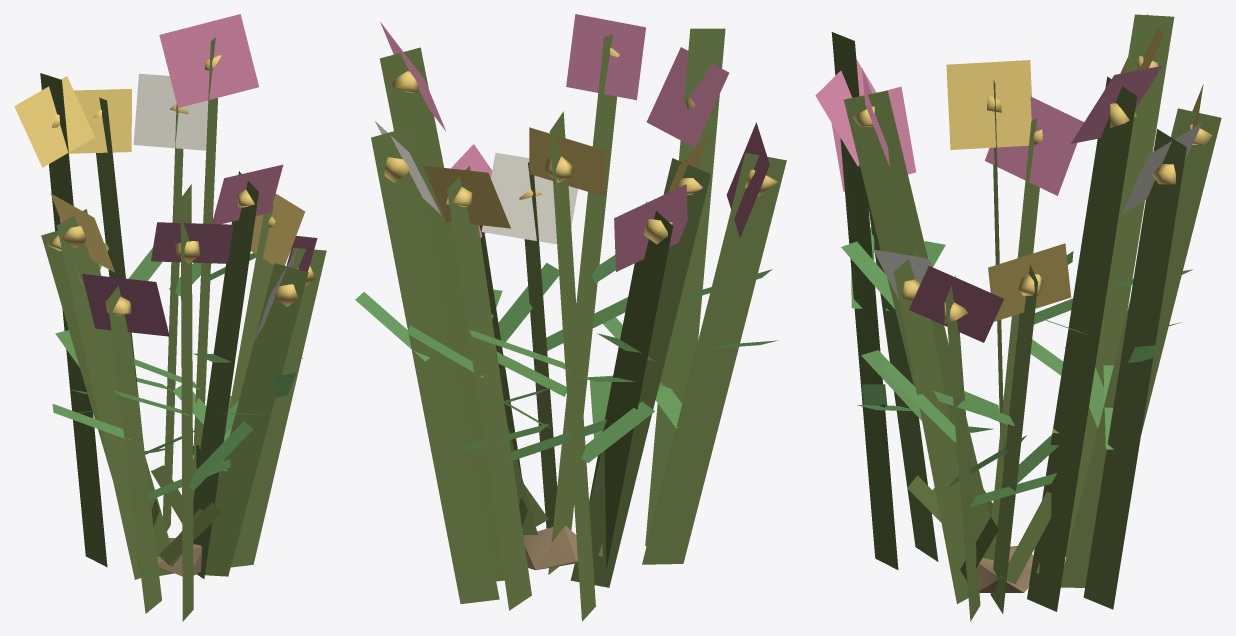
File: wildflowers_far.b41d3d96.glb
3 renders of one model, left to right at view 1: azimuth 30°, elevation 25°; view 2: azimuth 150°, elevation 25°; view 3: azimuth 270°, elevation 25°, orthographic. The views are drawn at different scales.
Parts seen in each view (by area): view 1: wildflowers; view 2: wildflowers; view 3: wildflowers.
Part boxes in pixels (x1,y1,x2,y2): wildflowers: (14,14,326,621); wildflowers: (355,14,786,621); wildflowers: (815,14,1221,621).
Size of the model in its own units: 0.6061 by 1 by 0.6415.
